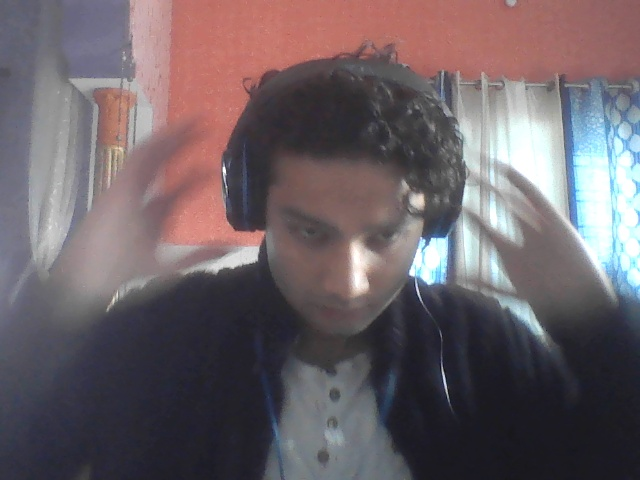real: (233, 76, 431, 356)
